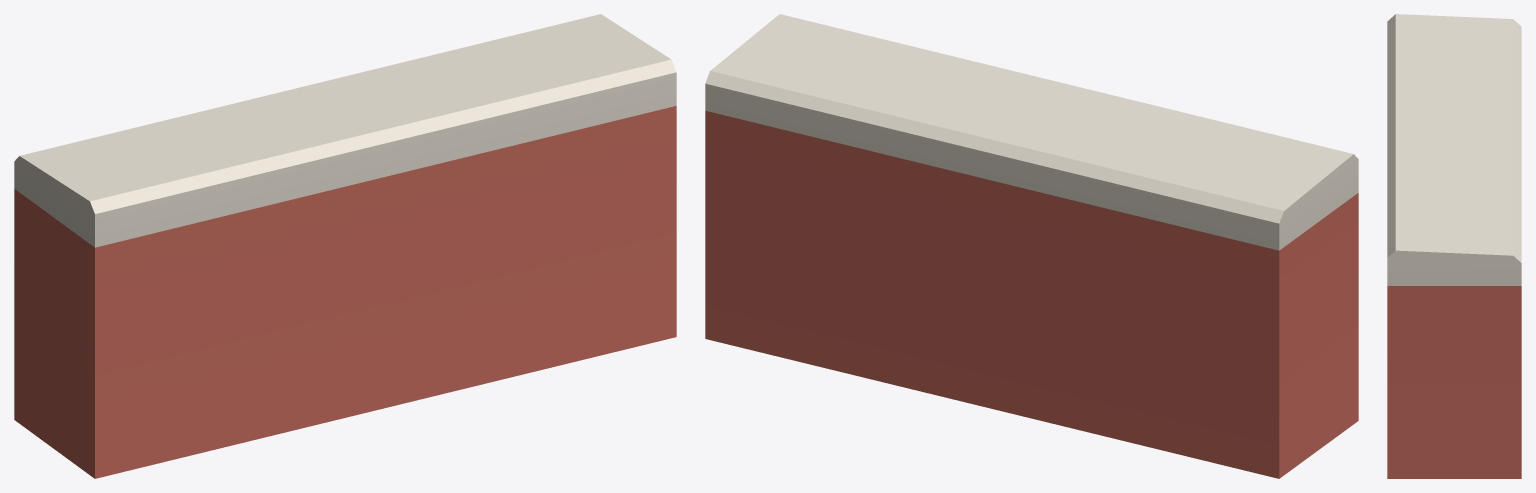
Rendered from parapet.glb.
3 views of the same model, side by side, from view 1: azimuth 30°, elevation 25°; view 2: azimuth 150°, elevation 25°; view 3: azimuth 270°, elevation 25° (orthographic). The views are drawn at different scales.
Parts seen in each view (by area): view 1: PART; view 2: PART; view 3: PART.
Part boxes in pixels (x1=…): PART: x1=14, y1=14, x2=676, y2=478; PART: x1=705, y1=14, x2=1358, y2=478; PART: x1=1387, y1=14, x2=1521, y2=478.
Size of the model in its own units: 1 by 0.45 by 0.24.
